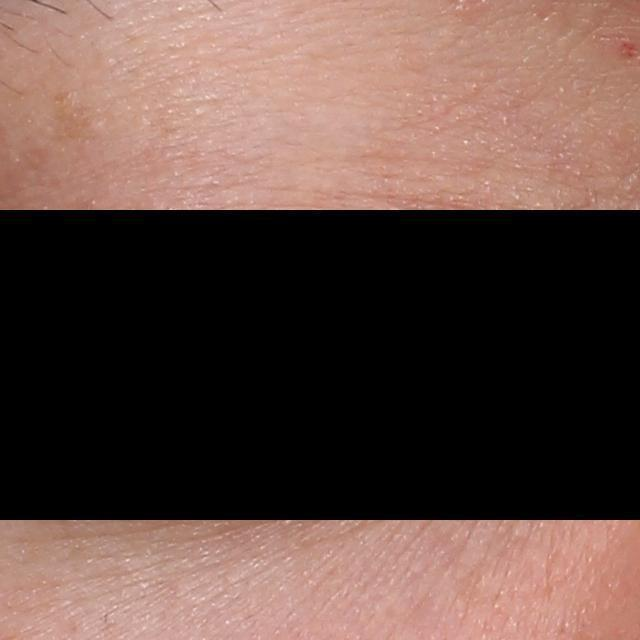melasma: (52, 86, 100, 144)
